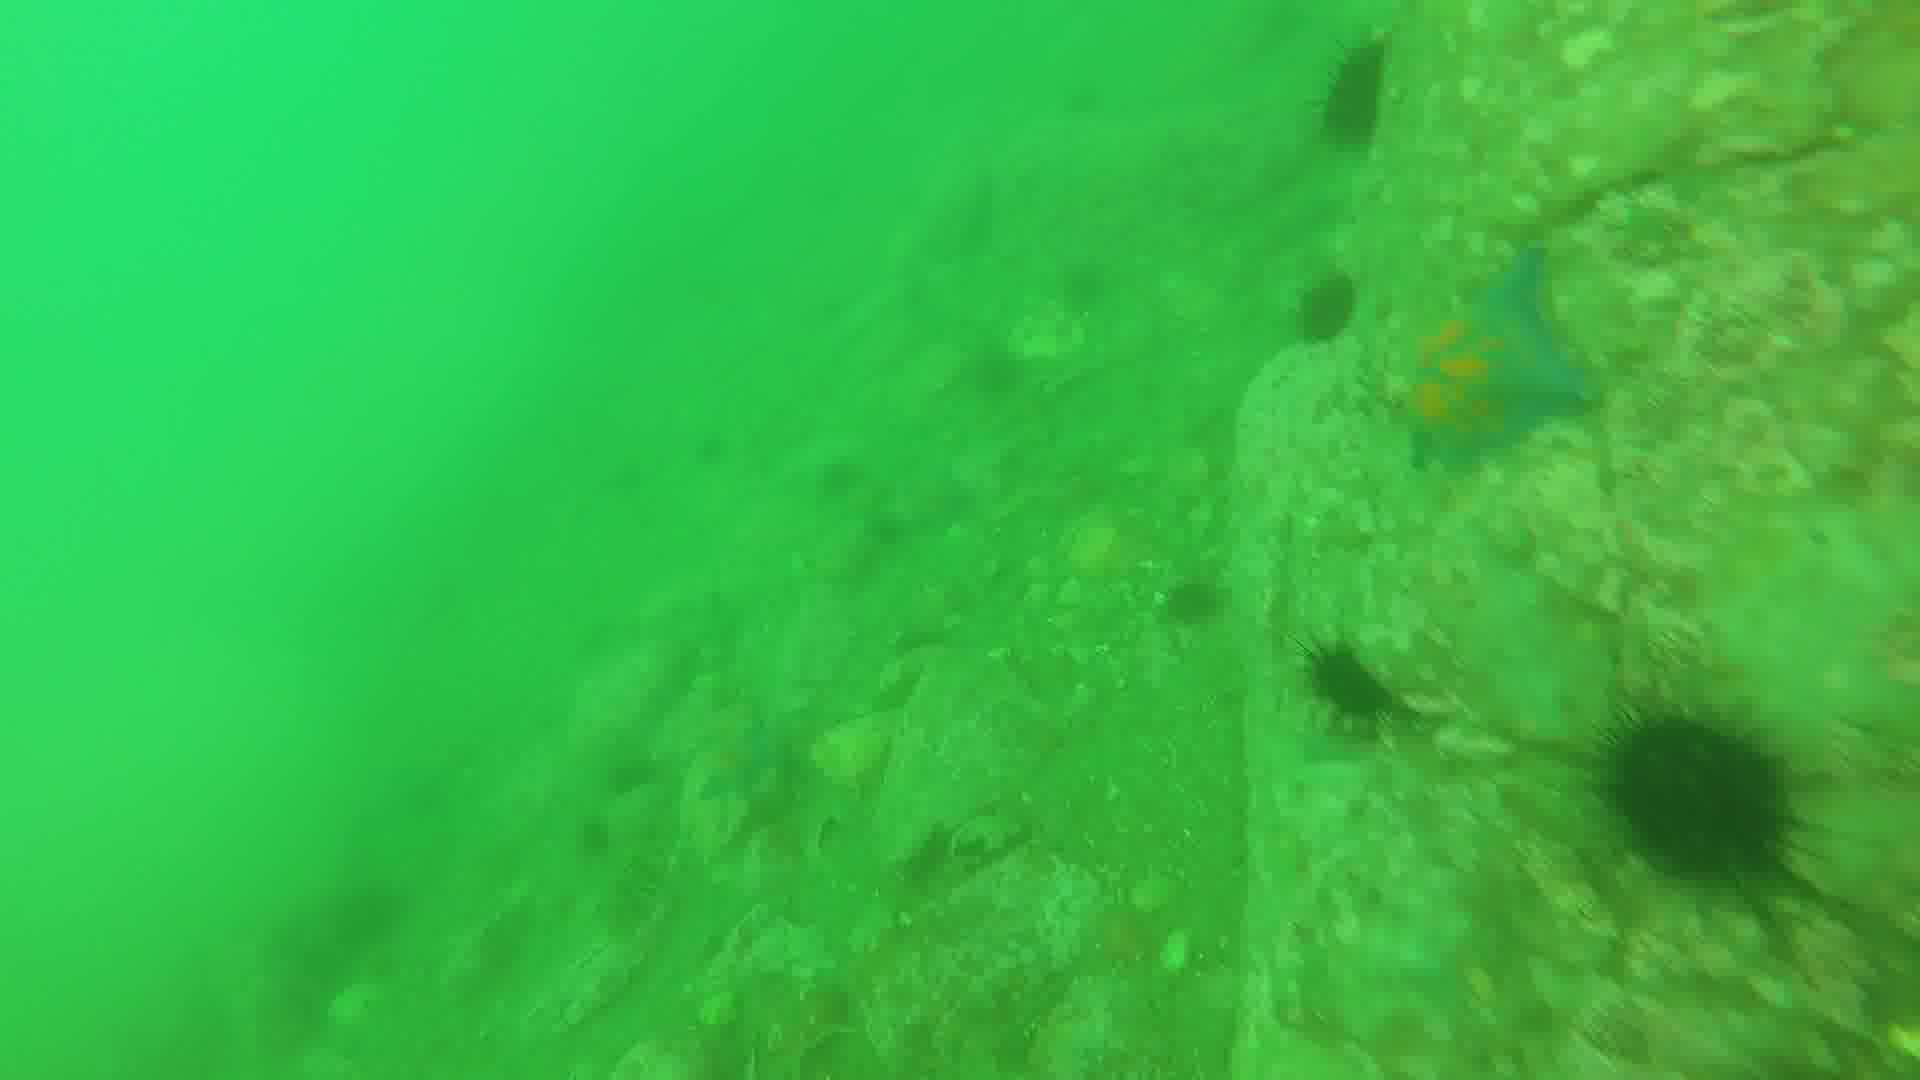echinus: (1604, 694, 1803, 893), (1317, 44, 1406, 148), (1302, 646, 1403, 736), (1292, 273, 1361, 348), (1160, 580, 1236, 636)
starfish: (1410, 262, 1588, 467)
